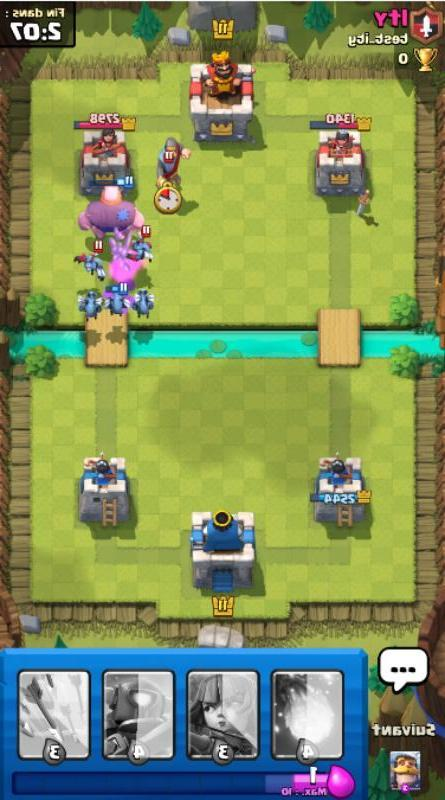enemy_knight: (150, 130, 196, 219)
player_giant: (74, 178, 147, 241)
player_minions: (74, 285, 105, 319), (126, 284, 157, 317), (101, 281, 130, 315), (77, 245, 107, 276), (126, 233, 155, 260)
